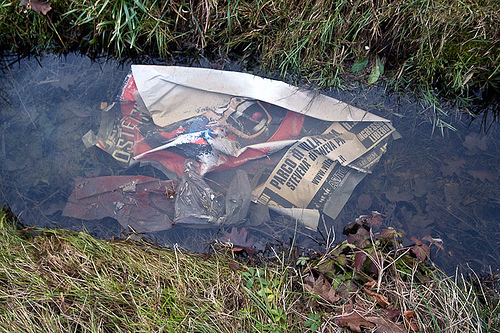litter: (104, 64, 398, 230)
